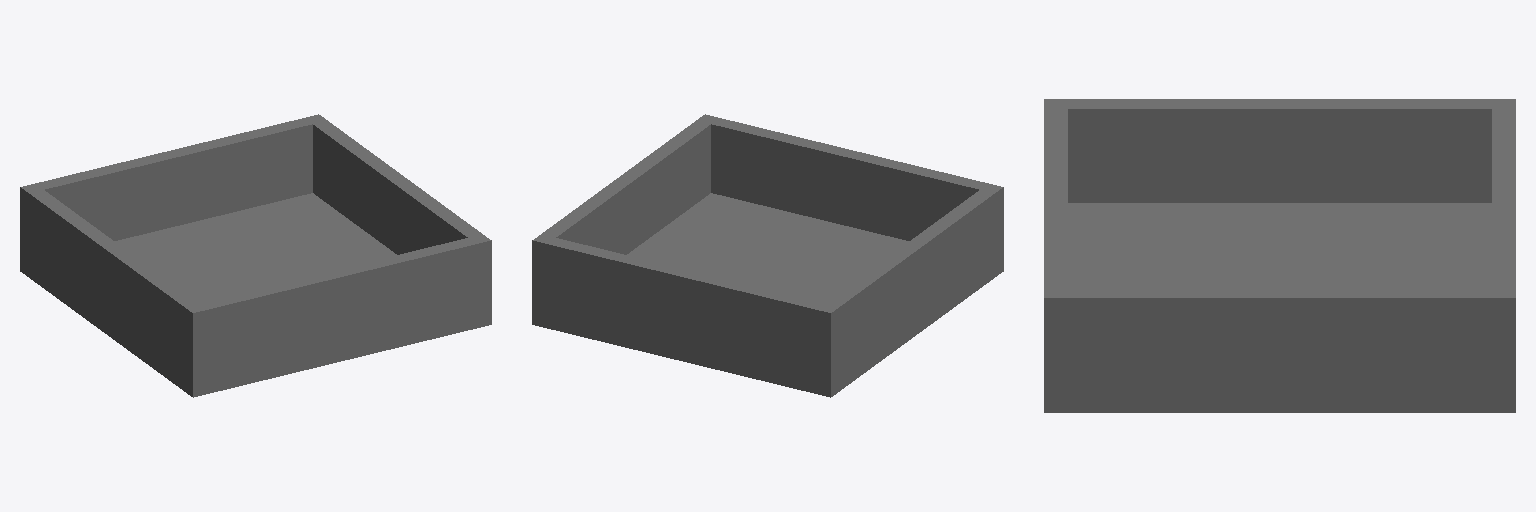
The robot description file, URDF, robot "plane":
<?xml version="1.0" ?>
<robot name="plane">
<material name="grey">
  <color rgba="0.5 0.5 0.5 1.0"/>
</material>

<link name="baseLink">
  <inertial>
    <origin rpy="0 0 0" xyz="0 0 0"/>
    <mass value=".0"/>
    <inertia ixx="0" ixy="0" ixz="0" iyy="0" iyz="0" izz="0"/>
  </inertial>
  <visual>
    <origin rpy="0 0 0" xyz="0 0 0"/>
    <geometry>
      <mesh filename="plane100.obj" scale="1 1 1"/>
    </geometry>
    <material name="white">
      <color rgba="1 1 1 1"/>
    </material>
  </visual>
  <collision>
    <origin rpy="0 0 0" xyz="0 0 0"/>
    <geometry>
      <box size="200 200 0.001"/>
    </geometry>
  </collision>
</link>

<joint name="fix_dumpster" type="fixed">
  <!-- <joint name="caster_back_right_joint" type="floating"> -->
  <parent link="baseLink"/>
  <child link="dumpster"/>
  <origin rpy="0 0 0" xyz="100 100 0"/>
</joint>

<link name="dumpster">
  <visual>
    <origin rpy="0 0 0" xyz="0.0 0.0 .0"/>
    <geometry>
      <box size="2.0 2.0 0.1" />
    </geometry>
    <material name="grey"/>
  </visual>
  <visual>
    <origin rpy="1.5707963267948966 0 0" xyz="0.0 .95 .24"/>
    <geometry>
      <box size="2.0 .5 0.1" />
    </geometry>
    <material name="grey"/>
  </visual>
  <visual>
    <origin rpy="1.5707963267948966 0 0" xyz="0.0 -.95 .24"/>
    <geometry>
      <box size="2.0 .5 0.1" />
    </geometry>
    <material name="grey"/>
  </visual>
  <visual>
    <origin rpy="0 1.5707963267948966 0" xyz=".95 0.0 .24"/>
    <geometry>
      <box size=".5 2.0 0.1" />
    </geometry>
    <material name="grey"/>
  </visual>
  <visual>
    <origin rpy="0 1.5707963267948966 0" xyz="-.95 0.0 .24"/>
    <geometry>
      <box size=".5 2.0 0.1" />
    </geometry>
    <material name="grey"/>
  </visual>

  <collision>
    <origin rpy="0 0 0" xyz="0.0 0.0 .0"/>
    <geometry>
      <box size="2.0 2.0 0.1" />
    </geometry>
    <material name="grey"/>
  </collision>
  <collision>
    <origin rpy="1.5707963267948966 0 0" xyz="0.0 .95 .24"/>
    <geometry>
      <box size="2.0 .5 0.1" />
    </geometry>
    <material name="grey"/>
  </collision>
  <collision>
    <origin rpy="1.5707963267948966 0 0" xyz="0.0 -.95 .24"/>
    <geometry>
      <box size="2.0 .5 0.1" />
    </geometry>
    <material name="grey"/>
  </collision>
  <collision>
    <origin rpy="0 1.5707963267948966 0" xyz=".95 0.0 .24"/>
    <geometry>
      <box size=".5 2.0 0.1" />
    </geometry>
    <material name="grey"/>
  </collision>
  <collision>
    <origin rpy="0 1.5707963267948966 0" xyz="-.95 0.0 .24"/>
    <geometry>
      <box size=".5 2.0 0.1" />
    </geometry>
    <material name="grey"/>
  </collision>
  <contact>
    <lateral_friction value="1.0"/>
    <rolling_friction value="1.0"/>
    <!-- <stiffness value="30000"/> -->
    <!-- <damping value="1000"/> -->
  </contact>
  
  <inertial>
    <origin xyz="0.0 0.0 0.0"/>
    <mass value="1.0+03"/>
    <inertia ixx="1.2505234e-05" ixy="0.0" ixz="-1.7855208e-07" iyy="2.1898364e-05" iyz="0.0" izz="1.9267361e-05"/>
  </inertial>
</link>  
</robot>

--- Facts derived from the render (not from the file) ---
Views: 3 orthographic renders of the robot side by side, from view 1: azimuth 30°, elevation 25°; view 2: azimuth 150°, elevation 25°; view 3: azimuth 270°, elevation 25°.
Robot: plane — 2 links, 1 joints (1 fixed); root link baseLink; default pose: every joint at zero.
Links seen in each view (by area): view 1: dumpster; view 2: dumpster; view 3: dumpster.
Boxes of the visible links, x1,y1,x2,y2 form: dumpster: (20,114,491,397); dumpster: (532,114,1003,397); dumpster: (1044,99,1515,412).
Size in the robot's own frame: 2 by 2 by 0.54 metres.
Meshes: 1 distinct files referenced, 0 mesh visuals loaded (none loaded); not drawn: 1 (reference not matched to a file when rendering).